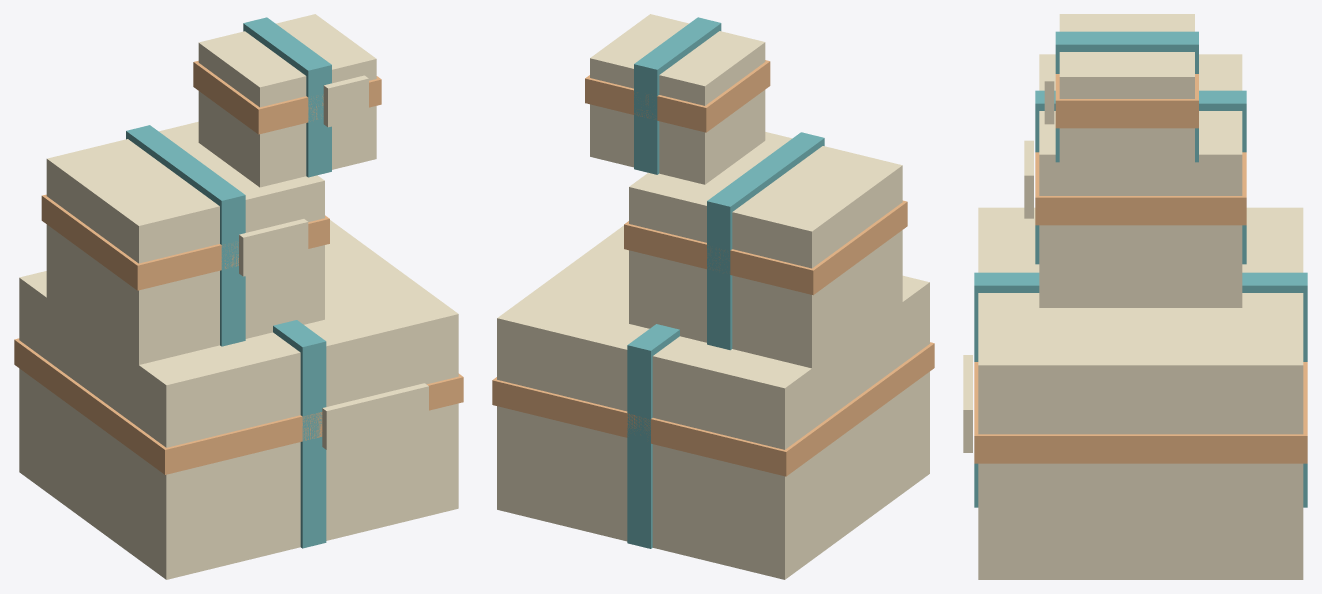
Rendered from meadow-courier-delivery-parcel-stack__40.glb.
3 views of the same model, side by side, from view 1: azimuth 30°, elevation 25°; view 2: azimuth 150°, elevation 25°; view 3: azimuth 270°, elevation 25° (orthographic). The views are drawn at different scales.
Parts seen in each view (by area): view 1: meadow-courier-parcel-stack; view 2: meadow-courier-parcel-stack; view 3: meadow-courier-parcel-stack.
Part boxes in pixels (x1,y1,x2,y2): meadow-courier-parcel-stack: (14, 14, 463, 579); meadow-courier-parcel-stack: (492, 14, 934, 579); meadow-courier-parcel-stack: (963, 14, 1307, 579).
Bounding box in the file's own units: 0.562 × 0.792 × 0.508.
